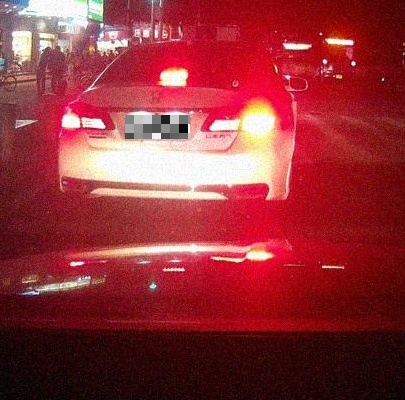L_light: (60, 101, 115, 130)
R_light: (200, 101, 277, 133)
T_light: (159, 69, 188, 81)
night-right: (58, 39, 292, 218)
plate_1: (125, 115, 190, 139)
